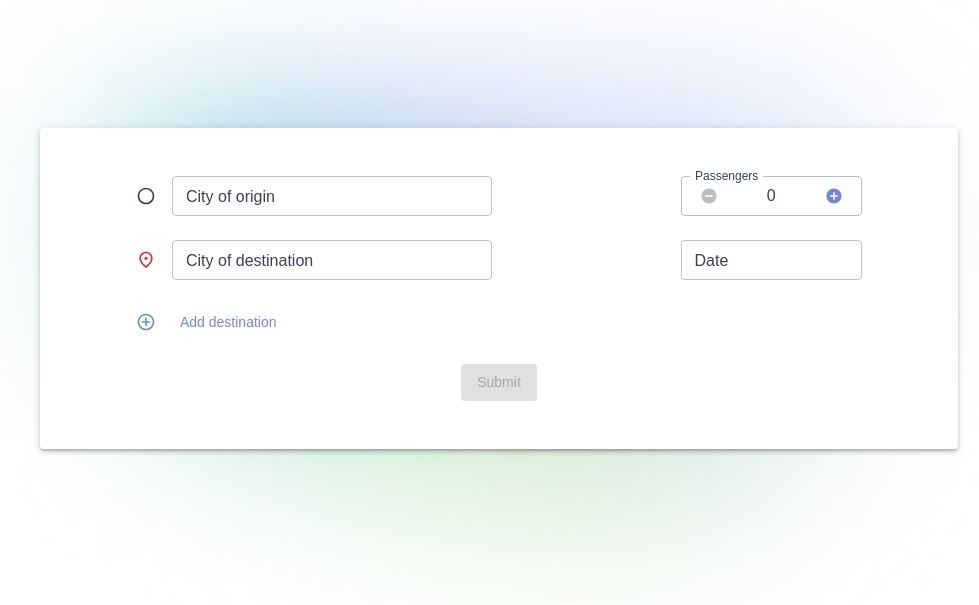
Test: Search Page › should show an error when the second destination field was touched and there is no value selected
The width and height of the screenshot is (979, 605).
Type "Paris" into the field with id "destination-field-1" at [332, 260], box left=172, top=240, right=492, bottom=280
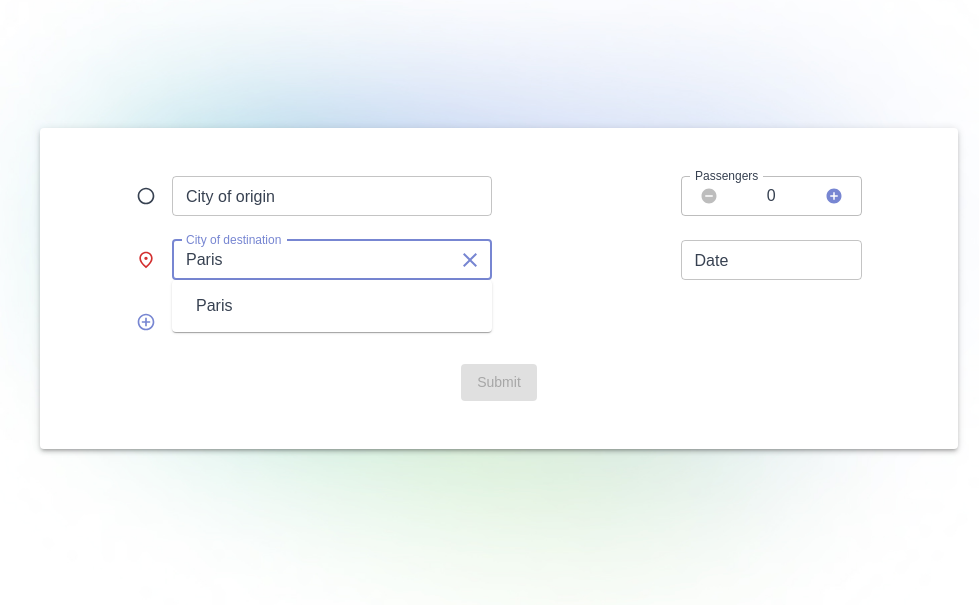
Click the icon with test id "ClearIcon" at [470, 260], box left=458, top=248, right=482, bottom=272
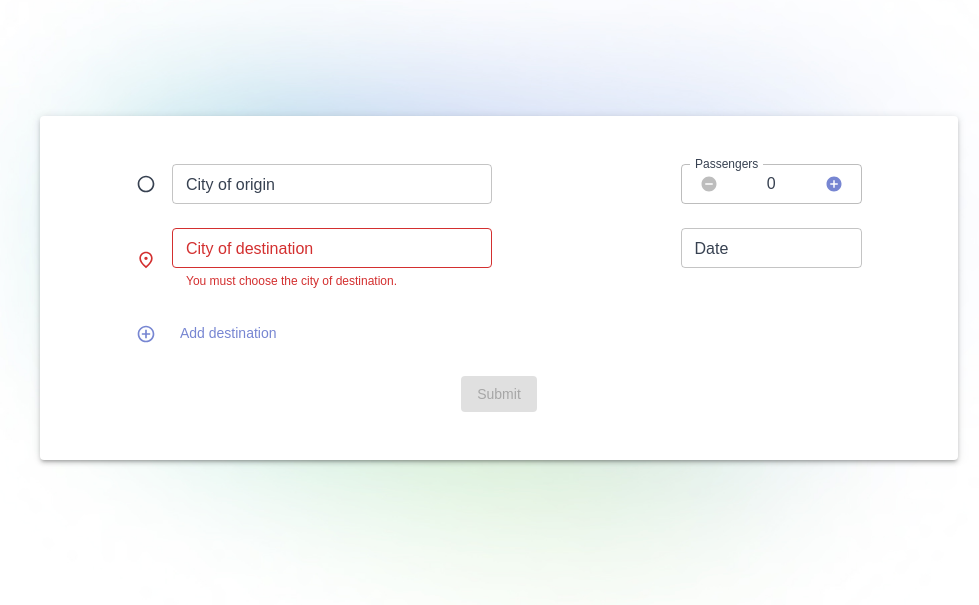
Expected: the text with id "destination-field-1-helper-text" reads "You must choose the city of destination.", left=186, top=274, right=397, bottom=288
